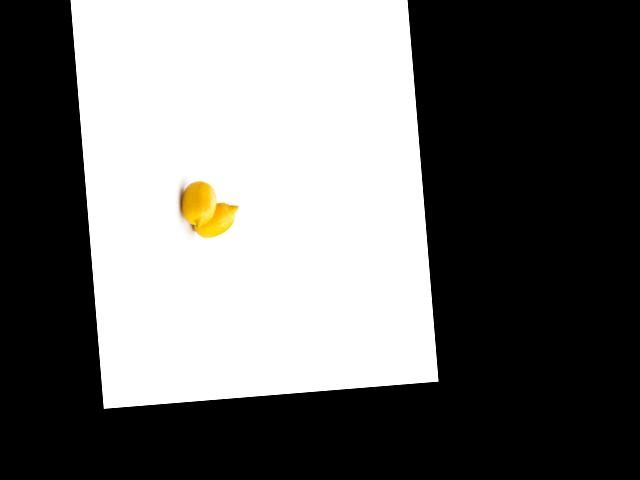lemon: (183, 177, 219, 233)
